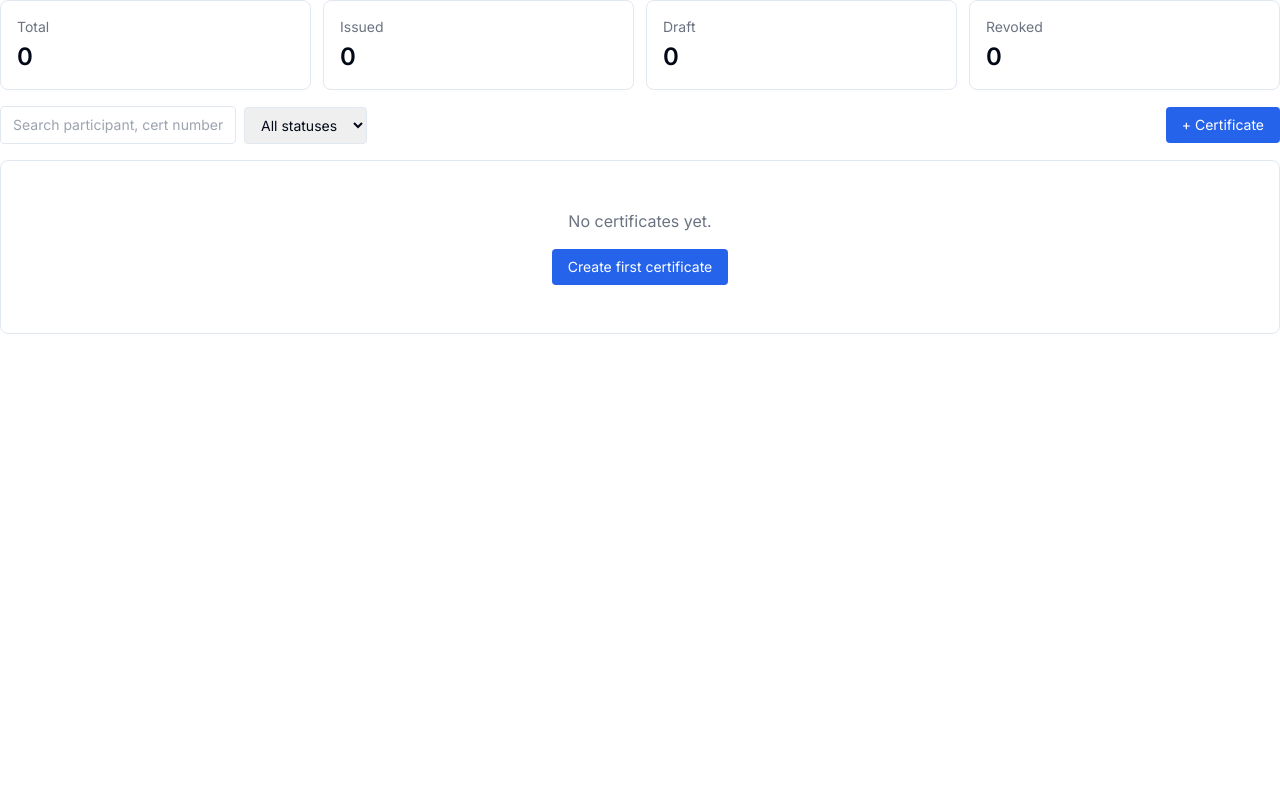
Test: CertificateCenter — create dialog › clicking btn-create-empty opens dialog
What coordinates should you click on to do the following:
click the button with test id "btn-create-empty"
I would click on:
 (640, 267)
Its box is [552, 249, 728, 285].
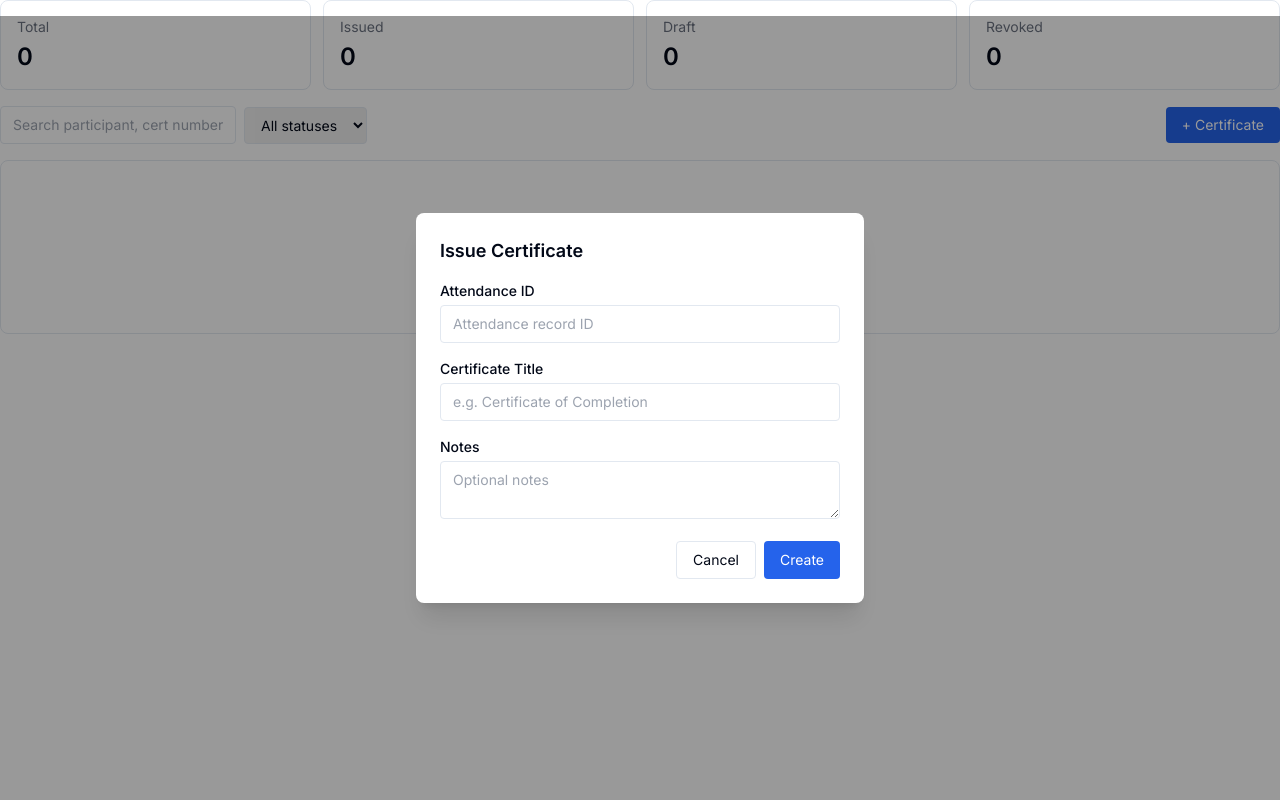
Expected: the element with test id "create-dialog" is shown
